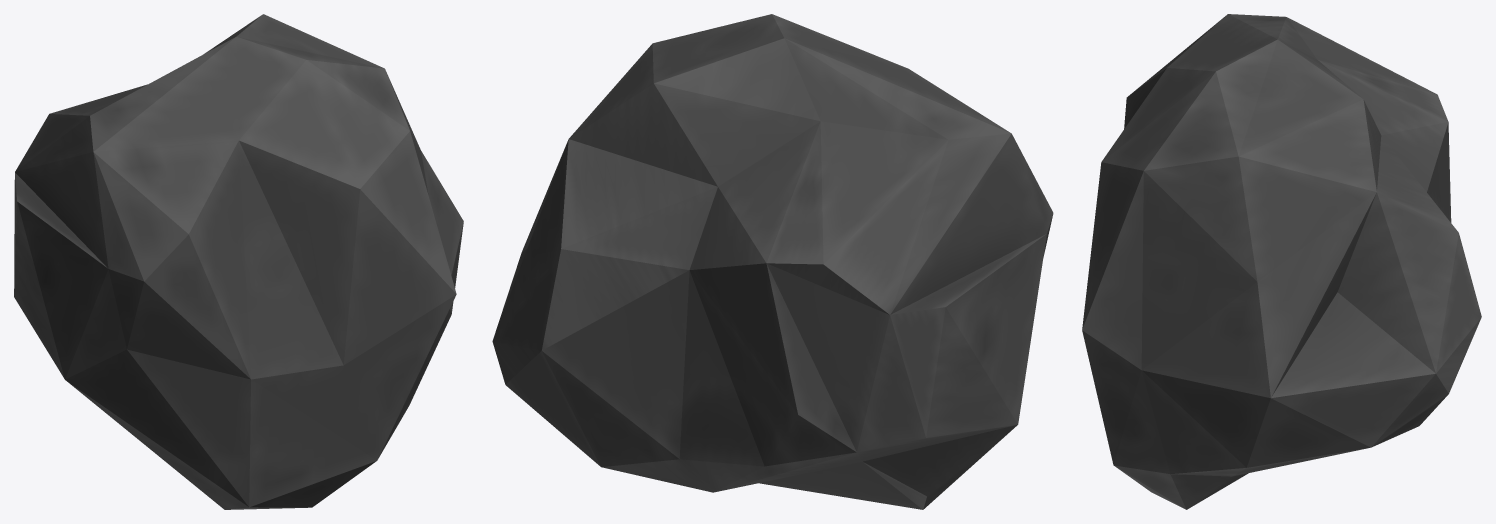
Rendered from asteroid3.glb.
3 views of the same model, side by side, from view 1: azimuth 30°, elevation 25°; view 2: azimuth 150°, elevation 25°; view 3: azimuth 270°, elevation 25° (orthographic). The views are drawn at different scales.
Parts seen in each view (by area): view 1: Asteroids_Mesh.003; view 2: Asteroids_Mesh.003; view 3: Asteroids_Mesh.003.
Boxes of the visible parts, x1,y1,x2,y2 form: Asteroids_Mesh.003: (14, 14, 463, 509); Asteroids_Mesh.003: (492, 14, 1053, 509); Asteroids_Mesh.003: (1082, 14, 1481, 509).
Bounding box in the file's own units: 0.9795 × 0.9864 × 0.8021.
Materials: 1 (1 with a texture image).
